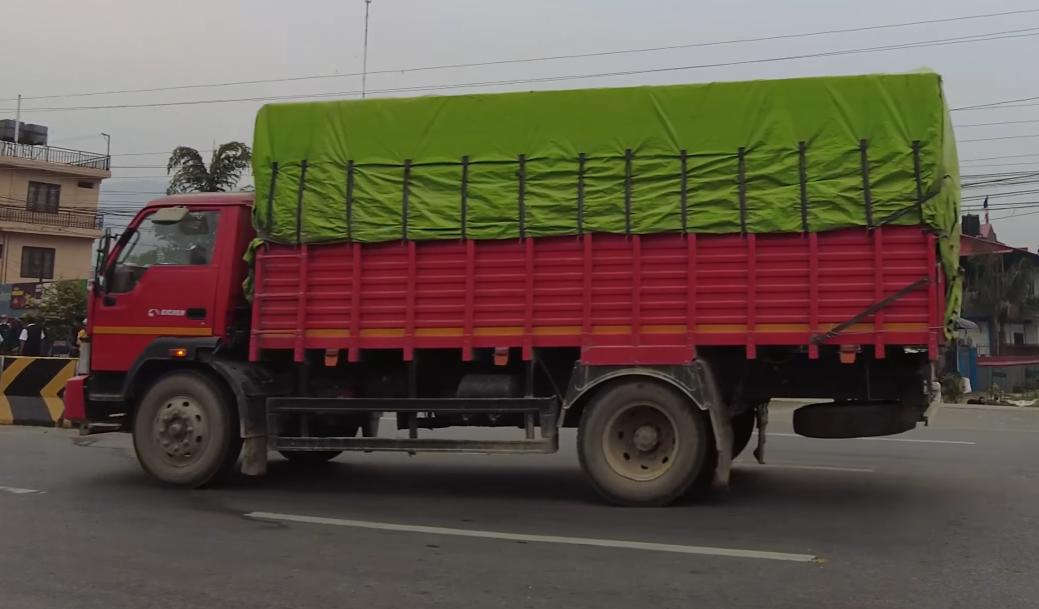truck: (63, 69, 968, 506)
